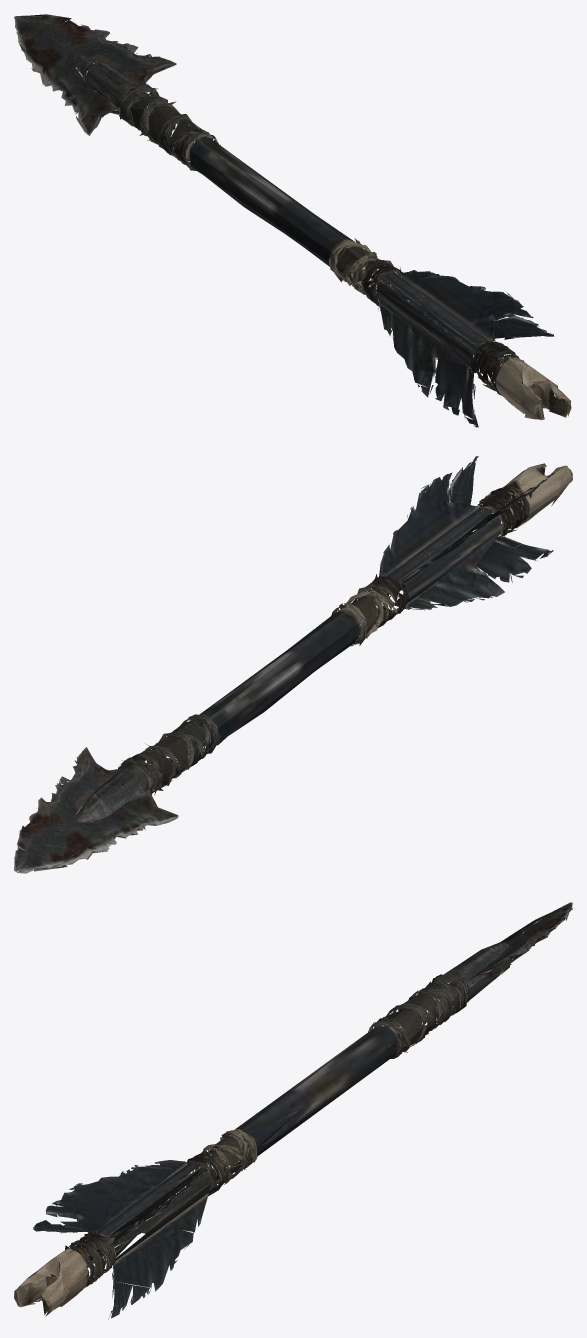
Rendered from war.glb.
The picture shows the model from 3 angles, top to bottom: view 1: azimuth 30°, elevation 25°; view 2: azimuth 150°, elevation 25°; view 3: azimuth 330°, elevation 25°; orthographic projection.
Parts seen in each view (by area): view 1: Mesh_0; view 2: Mesh_0; view 3: Mesh_0.
Boxes of the visible parts, x1,y1,x2,y2 form: Mesh_0: (14, 14, 571, 427); Mesh_0: (14, 456, 572, 873); Mesh_0: (14, 902, 572, 1319).
Size of the model in its own units: 0.0787 by 0.0715 by 0.8003.
1 material, 1 textured.
